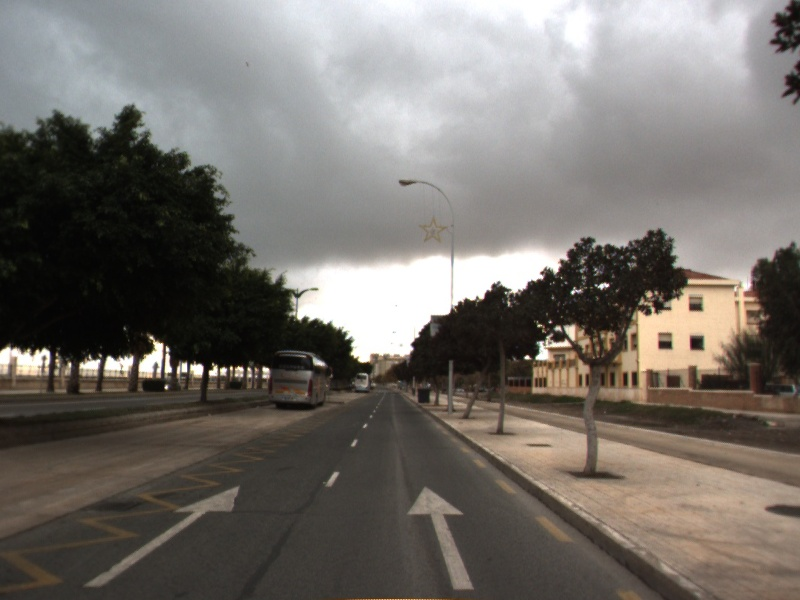STRAIGHT: (80, 480, 244, 590), (404, 483, 478, 592)
